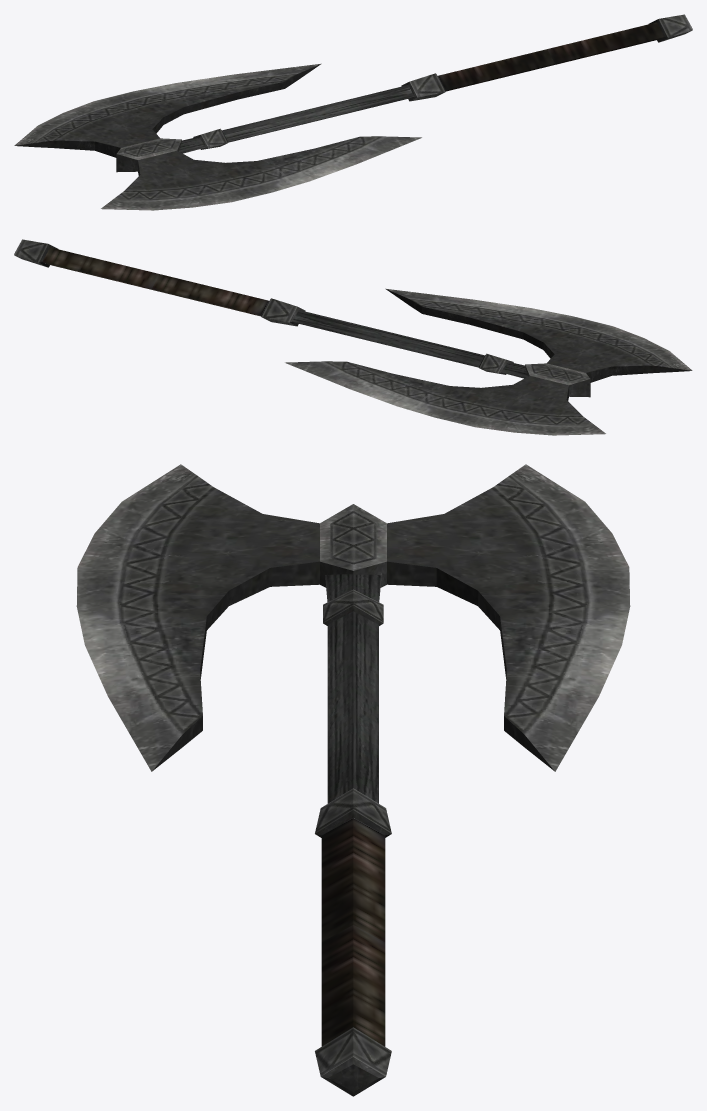
File: ITMW_080_2H_AXE_HEAVY_02.glb
3 views of the same model, one above another, from view 1: azimuth 30°, elevation 25°; view 2: azimuth 150°, elevation 25°; view 3: azimuth 270°, elevation 25° (orthographic). The views are drawn at different scales.
Visible parts, largest first — view 1: ITMW_080_2H_AXE_HEAVY_02; view 2: ITMW_080_2H_AXE_HEAVY_02; view 3: ITMW_080_2H_AXE_HEAVY_02.
Boxes of the visible parts, bbox=[...] form: ITMW_080_2H_AXE_HEAVY_02: bbox=[14, 14, 692, 210]; ITMW_080_2H_AXE_HEAVY_02: bbox=[14, 239, 692, 435]; ITMW_080_2H_AXE_HEAVY_02: bbox=[76, 464, 630, 1096].
Size of the model in its own units: 1.3 by 0.0471 by 0.4945.
3 materials, 3 textured.
